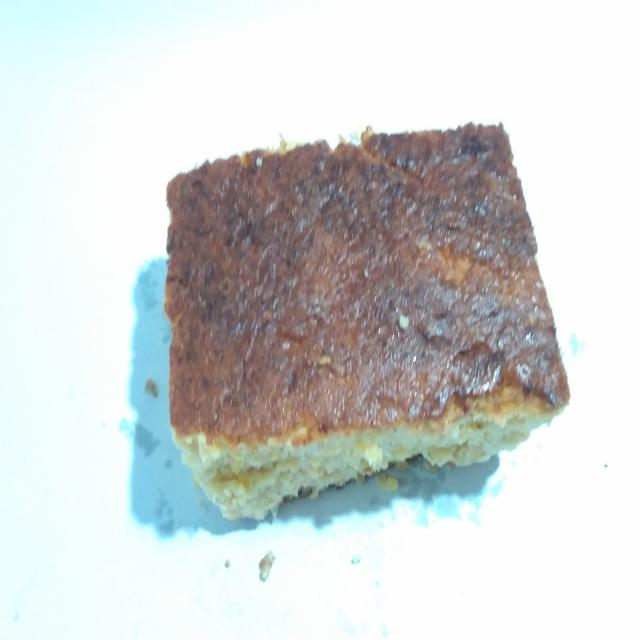Food: (157, 98, 576, 538)
